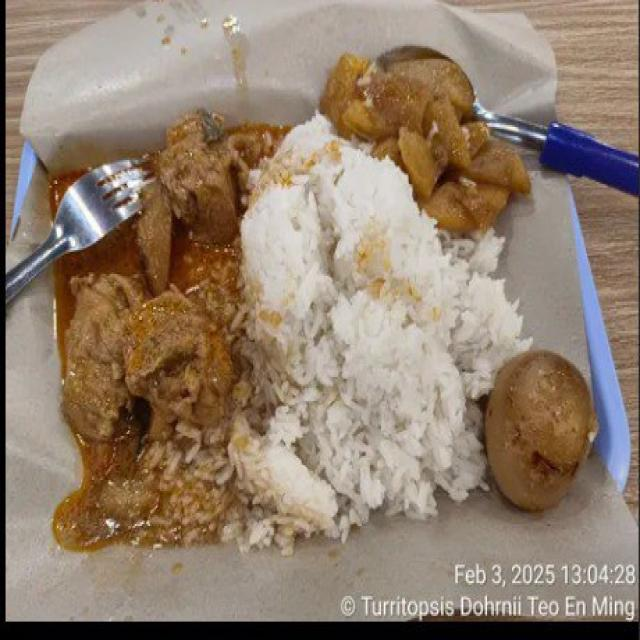Chicken: (63, 110, 237, 438)
Egg: (484, 349, 595, 511)
Potato: (320, 55, 529, 234)
Rice: (146, 114, 529, 552)
